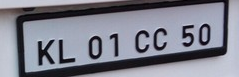0: (87, 34, 103, 60), (198, 22, 212, 47)
1: (108, 32, 121, 58)
5: (180, 24, 195, 49)
C: (152, 27, 169, 53), (134, 30, 150, 54)
K: (36, 38, 55, 67)
L: (58, 39, 76, 64)
